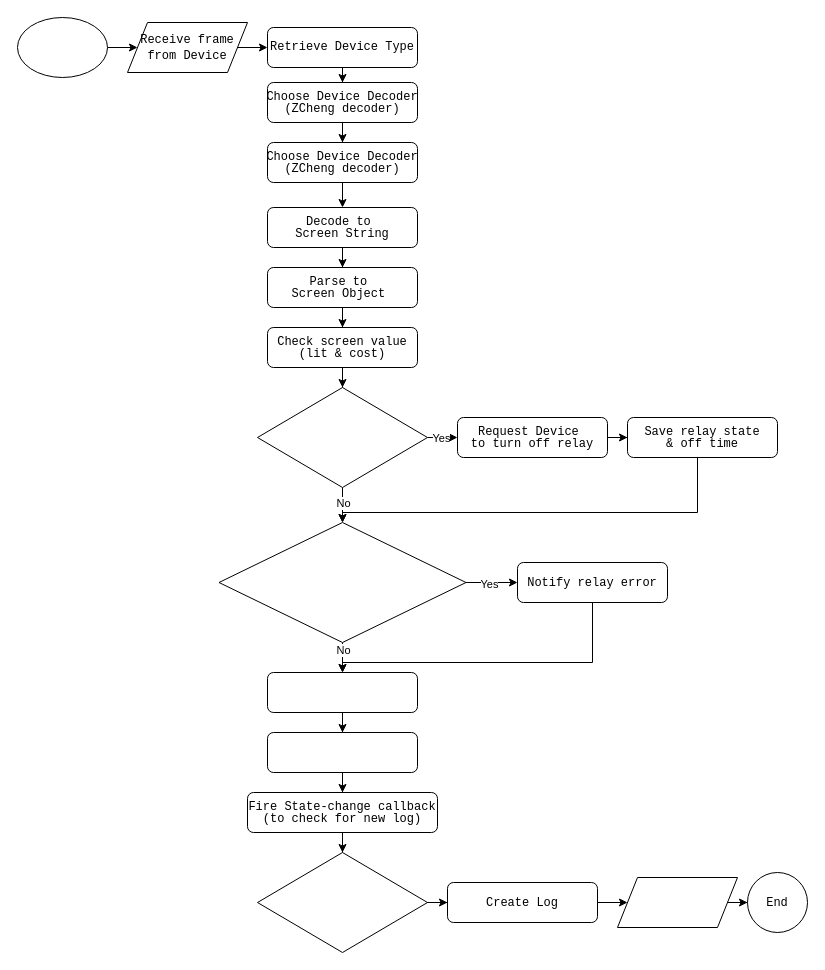
Some shapes in this 825 by 970 pixel diagram are drawn without their labels. Here are the shapes that lost their labels. From the top down, the centre of each, then its label:
the point at 62,47: Start
the point at 342,437: Satisfy off condition ?
the point at 342,582: State as Off for 500s but screen values keep increasing
the point at 342,692: Detect Screen Event
the point at 342,752: Detect Machine State
the point at 342,902: Log Detected ?
the point at 677,902: Send log to Event Queue
